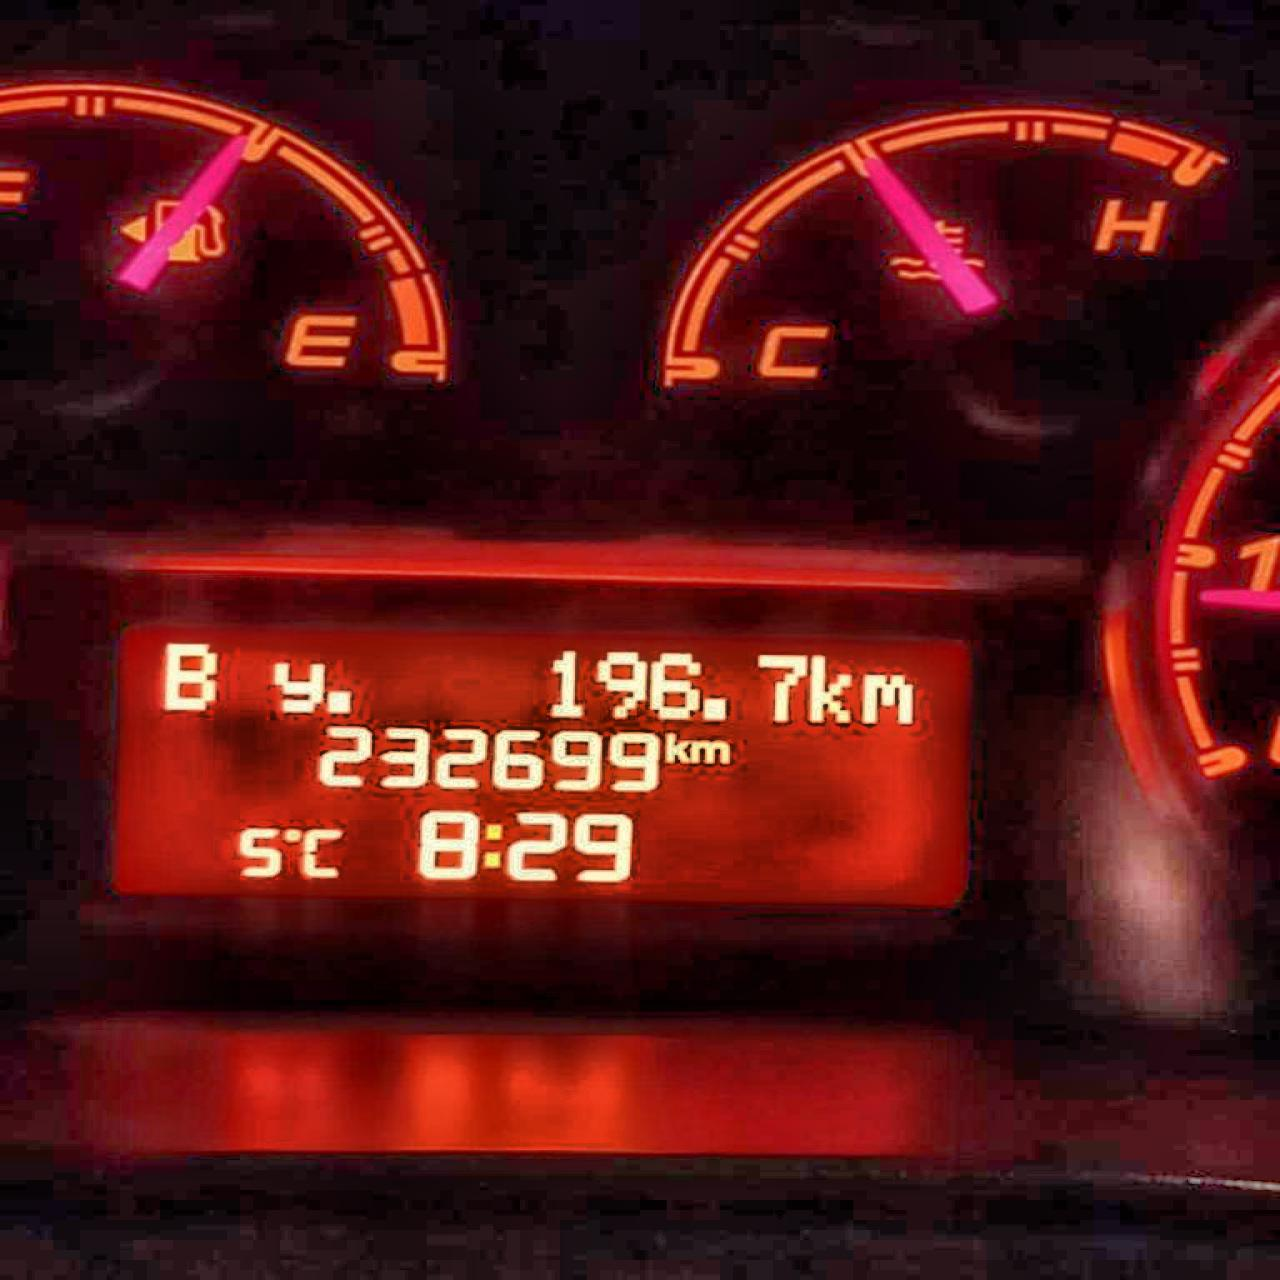-: (700, 690, 737, 724), (325, 685, 355, 715)
1: (549, 645, 590, 721)
2: (505, 809, 568, 881), (315, 724, 372, 785), (435, 726, 485, 790)
3: (379, 723, 429, 789)
5: (238, 825, 281, 876)
6: (649, 647, 699, 722), (492, 726, 543, 790)
7: (755, 651, 805, 724)
8: (421, 806, 477, 880)
9: (570, 809, 633, 883), (594, 646, 648, 720), (608, 729, 662, 792), (550, 729, 601, 792)
X: (162, 636, 216, 716), (809, 651, 855, 726), (858, 667, 914, 727), (266, 658, 321, 713), (300, 823, 342, 878), (688, 736, 731, 765), (483, 817, 502, 871), (663, 730, 688, 765)
odometer: (82, 613, 981, 913)
